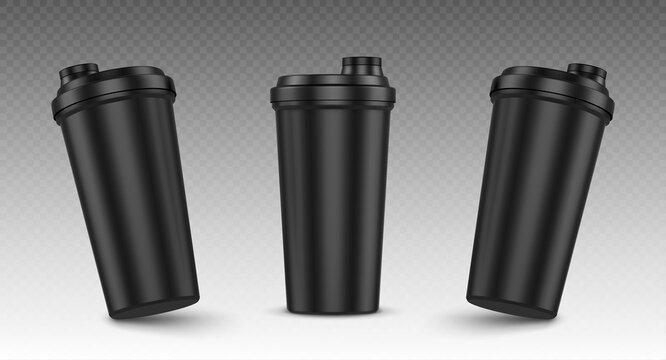gym bottle: (49, 59, 203, 322), (464, 59, 617, 321), (267, 54, 399, 320)
